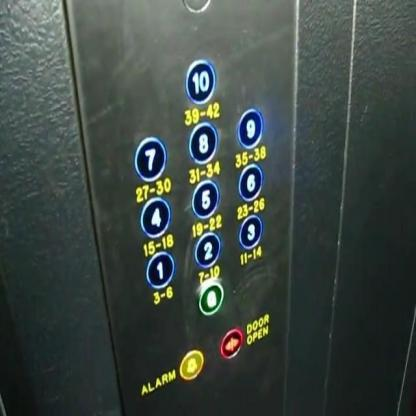1: (145, 250, 176, 290)
10: (183, 57, 217, 105)
2: (194, 230, 220, 268)
3: (237, 212, 264, 250)
4: (138, 194, 171, 238)
5: (190, 177, 219, 218)
6: (236, 162, 263, 201)
7: (133, 134, 167, 181)
8: (187, 120, 218, 164)
9: (235, 105, 265, 150)
G: (196, 278, 223, 315)
alarm: (178, 348, 204, 382)
open: (218, 326, 242, 360)
